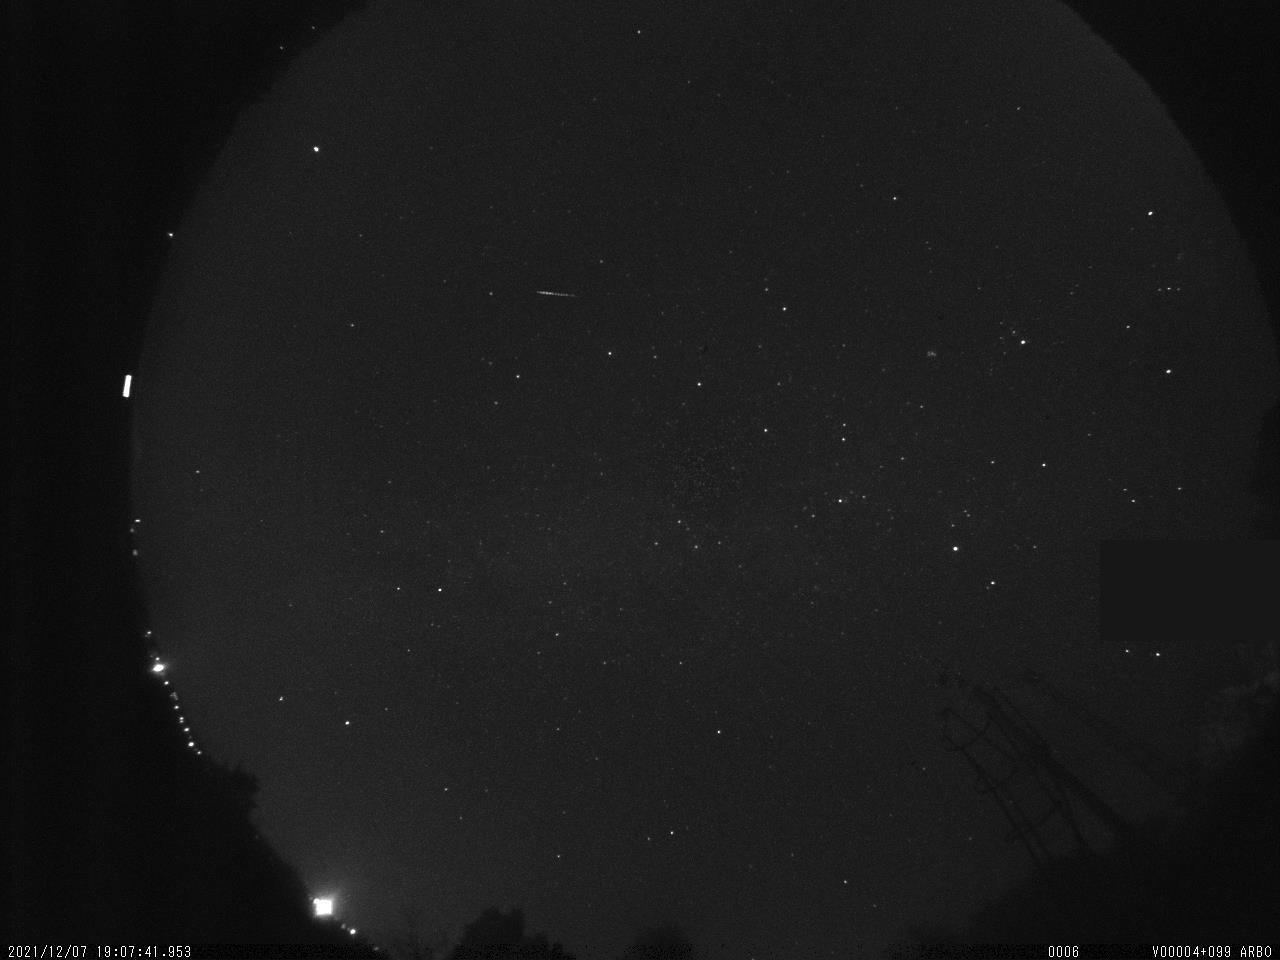meteor: (529, 284, 591, 307)
